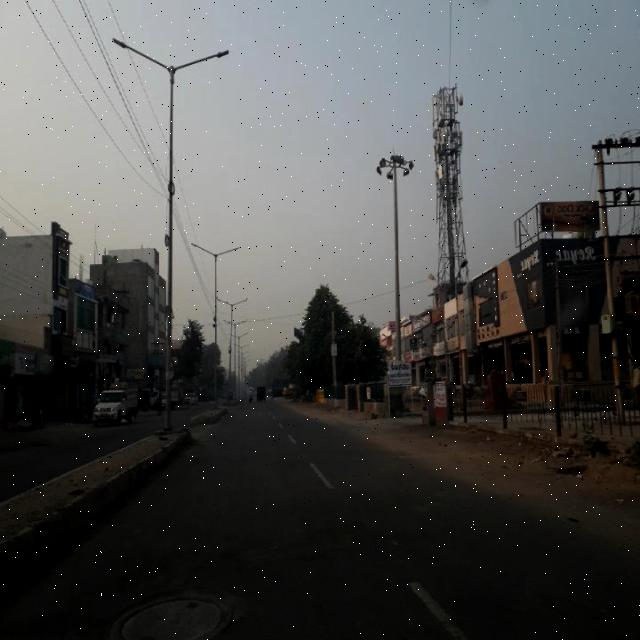D44: (411, 582, 522, 638)
D50: (113, 591, 234, 638)
